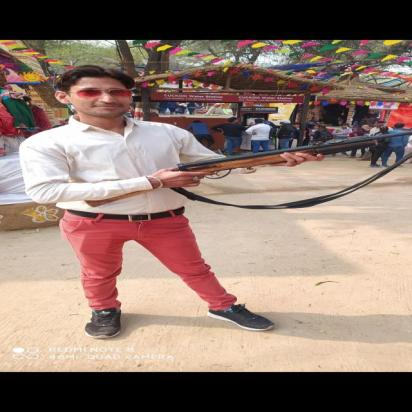Gun: (82, 130, 412, 209)
